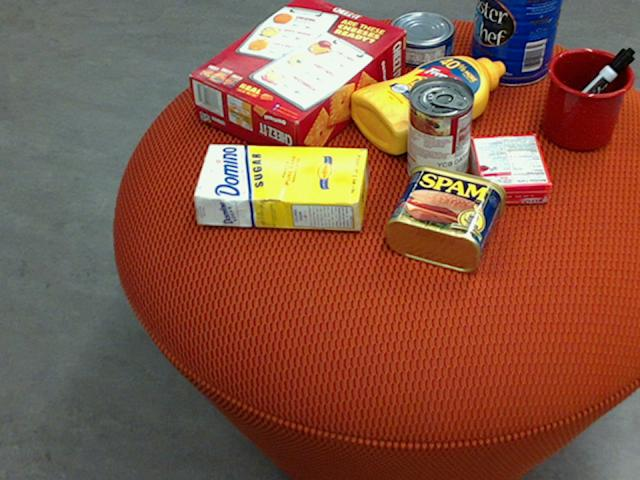cracker_box: (187, 0, 405, 164)
gelatin_box: (471, 136, 552, 204)
large_marker: (546, 45, 634, 133)
master_chef_can: (469, 0, 562, 84)
mug: (542, 47, 634, 150)
mustard_bottle: (350, 56, 505, 153)
potted_meat_can: (384, 162, 504, 271)
sugar_box: (191, 143, 367, 230)
tomato_soup_can: (406, 74, 472, 188)
tuna_fish_can: (387, 11, 454, 65)
